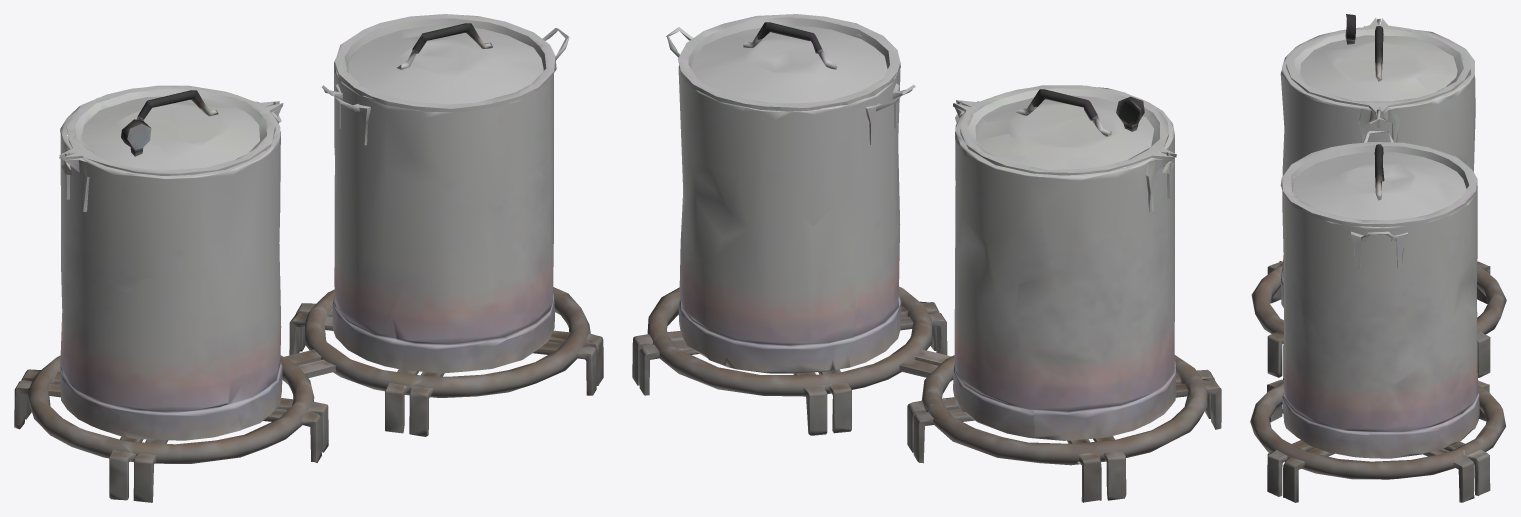
Rendered from IndustrialCookingPot_C.glb.
3 views of the same model, side by side, from view 1: azimuth 30°, elevation 25°; view 2: azimuth 150°, elevation 25°; view 3: azimuth 270°, elevation 25° (orthographic). The views are drawn at different scales.
Visible parts, largest first — view 1: SM_CookingPot_2_7; view 2: SM_CookingPot_2_7; view 3: SM_CookingPot_2_7.
Part boxes in pixels (x1=…): SM_CookingPot_2_7: x1=14, y1=14, x2=603, y2=502; SM_CookingPot_2_7: x1=632, y1=14, x2=1221, y2=502; SM_CookingPot_2_7: x1=1250, y1=14, x2=1506, y2=502.
Size of the model in its own units: 4.08 by 2.55 by 1.96.
Materials: 1 (1 with a texture image).
